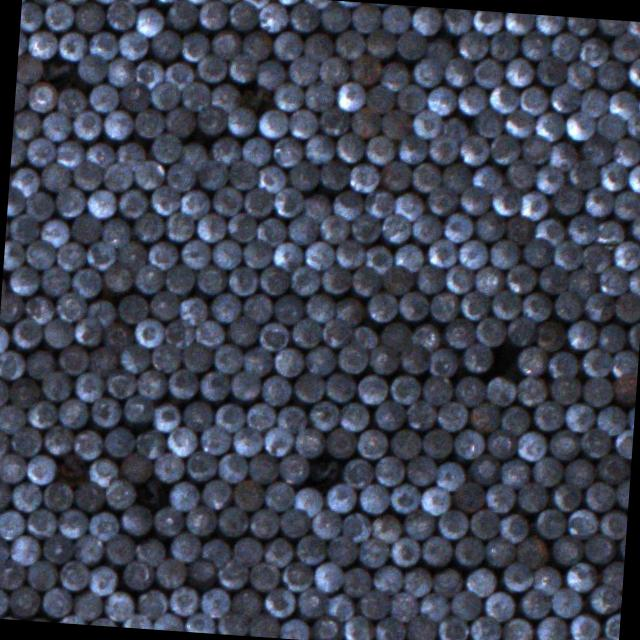tool: (514, 532, 552, 570), (183, 502, 218, 537), (347, 104, 383, 138), (467, 398, 502, 432), (258, 372, 292, 407), (134, 426, 168, 461), (451, 586, 484, 622), (302, 343, 338, 376), (68, 587, 104, 620), (594, 451, 628, 485), (168, 528, 202, 562), (550, 532, 584, 566), (404, 453, 438, 487), (548, 372, 582, 406), (288, 316, 322, 350), (208, 290, 242, 324), (256, 262, 290, 296), (566, 264, 600, 298), (302, 238, 336, 272), (473, 208, 507, 242), (566, 210, 600, 244), (270, 184, 304, 218), (502, 106, 536, 140), (8, 583, 42, 617), (101, 588, 135, 622), (25, 557, 59, 591), (121, 557, 155, 591), (133, 533, 167, 567), (119, 502, 153, 536), (102, 424, 136, 458), (57, 395, 91, 429), (73, 369, 107, 403), (102, 106, 136, 140), (309, 507, 344, 540), (497, 510, 532, 543), (151, 451, 186, 484), (562, 401, 597, 434), (470, 160, 505, 193), (105, 476, 138, 511), (39, 369, 74, 402), (136, 366, 169, 401), (230, 478, 266, 510), (372, 398, 408, 430), (270, 136, 306, 168), (578, 132, 611, 166), (577, 34, 610, 68), (230, 585, 264, 618), (483, 588, 516, 622), (154, 554, 187, 588), (294, 532, 327, 566), (484, 534, 517, 568), (216, 504, 250, 537), (468, 506, 501, 540), (566, 507, 600, 540), (167, 478, 200, 512), (292, 484, 326, 517), (452, 480, 486, 513), (185, 448, 218, 482), (498, 456, 532, 489), (165, 424, 199, 457), (230, 424, 264, 457), (292, 426, 326, 459), (389, 427, 423, 460), (515, 428, 549, 461), (531, 398, 565, 431), (292, 370, 326, 403), (240, 343, 274, 376), (367, 342, 400, 376), (272, 291, 306, 324), (488, 287, 522, 320), (550, 182, 584, 215), (286, 159, 320, 192), (238, 133, 272, 166), (488, 130, 522, 163), (548, 138, 582, 171), (225, 48, 258, 82), (286, 54, 320, 87), (270, 27, 303, 61), (255, 0, 289, 33), (135, 586, 169, 619), (120, 392, 154, 425), (105, 365, 138, 399), (56, 342, 90, 375), (38, 264, 72, 297), (100, 214, 134, 247), (133, 156, 166, 190), (132, 4, 166, 37), (500, 560, 535, 592), (402, 508, 437, 540), (433, 458, 468, 490), (422, 424, 454, 459), (323, 370, 358, 402), (533, 318, 568, 350), (362, 132, 397, 164), (389, 534, 422, 567), (484, 481, 517, 514), (356, 426, 389, 459), (515, 344, 548, 377), (225, 315, 258, 348), (398, 289, 431, 322), (287, 264, 320, 297), (474, 263, 507, 296), (536, 262, 569, 295), (334, 237, 367, 270), (521, 235, 554, 268), (255, 215, 288, 248), (533, 214, 566, 247), (363, 82, 396, 115), (349, 1, 382, 34), (72, 481, 105, 514), (42, 423, 75, 456), (38, 215, 71, 248), (72, 157, 105, 190), (119, 79, 152, 112), (580, 374, 614, 406), (248, 560, 282, 592), (312, 558, 344, 592), (372, 560, 404, 594), (464, 564, 496, 598), (454, 533, 486, 567), (152, 502, 184, 536), (418, 484, 452, 516), (550, 480, 584, 512), (246, 451, 280, 483), (468, 452, 502, 484), (324, 426, 358, 458), (484, 427, 518, 459), (212, 402, 246, 434), (435, 400, 469, 432), (354, 372, 388, 404), (516, 374, 550, 406), (442, 316, 476, 348), (164, 260, 196, 294), (225, 264, 259, 296), (318, 262, 352, 294), (382, 262, 414, 296), (487, 236, 521, 268), (224, 210, 258, 242), (392, 190, 426, 222), (226, 158, 258, 192), (348, 160, 382, 192), (566, 158, 600, 190), (209, 132, 241, 166), (458, 132, 490, 166), (272, 80, 306, 112), (518, 82, 552, 114), (550, 80, 582, 114), (502, 56, 536, 88), (564, 56, 596, 90), (148, 27, 180, 61), (454, 29, 488, 61), (58, 558, 90, 592), (8, 534, 42, 566), (72, 532, 104, 566), (103, 532, 137, 564), (120, 450, 154, 482), (90, 394, 122, 428), (118, 341, 152, 373), (42, 316, 76, 348), (100, 318, 134, 350), (54, 290, 88, 322), (116, 292, 150, 324), (134, 54, 166, 88), (562, 455, 597, 486), (227, 369, 262, 400), (386, 373, 421, 404), (549, 586, 585, 616), (583, 532, 616, 564), (264, 585, 296, 618), (296, 585, 328, 618), (519, 586, 552, 618), (216, 556, 249, 588), (566, 559, 598, 592), (421, 534, 454, 566), (199, 478, 232, 510), (373, 454, 406, 486), (550, 427, 582, 460), (307, 398, 339, 431), (405, 399, 437, 432), (500, 401, 532, 434), (166, 366, 198, 399), (198, 368, 230, 401), (420, 374, 453, 406), (180, 340, 213, 372), (378, 320, 411, 352), (565, 318, 598, 350), (520, 289, 552, 322), (552, 290, 585, 322), (350, 264, 383, 296), (505, 261, 538, 293), (147, 238, 180, 270), (178, 237, 211, 269), (348, 212, 381, 244), (442, 210, 474, 243), (504, 212, 536, 245), (194, 158, 227, 190), (255, 162, 288, 194), (382, 107, 414, 140), (534, 109, 566, 142), (148, 79, 180, 112), (333, 78, 366, 110), (396, 82, 428, 115), (456, 83, 489, 115), (196, 51, 228, 84), (380, 58, 413, 90), (473, 55, 505, 88), (178, 29, 210, 62), (302, 28, 334, 61), (424, 32, 456, 65), (87, 508, 120, 540), (10, 480, 43, 512), (85, 344, 118, 376), (10, 316, 42, 349), (115, 238, 148, 270), (114, 138, 147, 170), (134, 105, 166, 138), (26, 28, 58, 61), (118, 28, 151, 60), (359, 586, 390, 620), (342, 563, 373, 597), (259, 535, 293, 566), (200, 422, 231, 456), (274, 402, 308, 433), (302, 133, 336, 164), (162, 105, 196, 136), (518, 29, 552, 60), (7, 212, 41, 243), (54, 184, 85, 218), (84, 188, 118, 219), (588, 582, 620, 614), (580, 426, 612, 458), (582, 290, 614, 322), (592, 110, 624, 142), (198, 586, 230, 618), (282, 559, 314, 591), (402, 564, 434, 596), (199, 534, 231, 566), (436, 507, 468, 539), (534, 506, 566, 538), (324, 482, 356, 514), (216, 452, 248, 484), (531, 454, 563, 486), (453, 427, 485, 459), (180, 398, 212, 430), (452, 374, 484, 406), (211, 342, 243, 374), (399, 342, 431, 374), (410, 320, 442, 352), (148, 288, 180, 320), (444, 262, 476, 294), (210, 238, 242, 270), (240, 238, 272, 270), (272, 240, 304, 272), (426, 236, 458, 268), (456, 238, 488, 270), (194, 210, 226, 242), (210, 184, 242, 216), (458, 184, 490, 216), (489, 183, 521, 215), (410, 160, 442, 192), (504, 156, 536, 188), (398, 132, 430, 164), (518, 132, 550, 164), (196, 103, 228, 135), (564, 108, 596, 140), (178, 80, 210, 112), (208, 80, 240, 112), (443, 54, 475, 86), (241, 27, 273, 59), (487, 28, 519, 60), (288, 0, 320, 32), (87, 563, 119, 595), (10, 424, 42, 456), (26, 397, 58, 429), (8, 376, 40, 408), (24, 347, 56, 379), (24, 292, 56, 324), (8, 264, 40, 296), (70, 266, 102, 298), (101, 262, 133, 294), (132, 262, 164, 294), (133, 210, 165, 242), (54, 136, 86, 168), (56, 84, 88, 116), (185, 557, 218, 588), (336, 342, 369, 373), (364, 26, 397, 57), (88, 454, 119, 487), (598, 506, 628, 540), (596, 56, 626, 90), (304, 292, 338, 322), (430, 288, 460, 322), (116, 187, 150, 217), (596, 264, 628, 295), (431, 564, 462, 596), (231, 534, 262, 566), (359, 536, 390, 568), (278, 507, 310, 538), (371, 510, 402, 542), (389, 482, 420, 514), (279, 452, 310, 484), (262, 426, 293, 458), (244, 401, 276, 432), (484, 374, 516, 405), (462, 341, 494, 372), (162, 317, 194, 348), (241, 292, 273, 323), (366, 290, 398, 321), (460, 288, 491, 320), (414, 262, 445, 294), (551, 238, 582, 270), (286, 214, 318, 245), (318, 213, 350, 244), (148, 184, 180, 215), (240, 186, 272, 217), (332, 188, 363, 220), (426, 184, 458, 215), (318, 158, 349, 190), (178, 137, 210, 168), (428, 132, 459, 164), (288, 107, 319, 139), (472, 106, 504, 137), (426, 84, 458, 115), (488, 83, 520, 114), (163, 58, 194, 90), (334, 29, 365, 61), (549, 30, 580, 62), (40, 586, 72, 617), (26, 507, 58, 538), (86, 295, 118, 326), (24, 238, 55, 270), (71, 211, 102, 243), (23, 188, 54, 220), (9, 164, 41, 195), (41, 161, 73, 192), (102, 160, 134, 191), (41, 109, 72, 141), (70, 108, 102, 139), (88, 80, 120, 111), (56, 29, 88, 60), (42, 0, 74, 31), (73, 0, 105, 31), (609, 346, 639, 379), (326, 534, 359, 564), (336, 401, 369, 431), (580, 346, 613, 376), (392, 242, 425, 272), (520, 186, 550, 219), (163, 161, 196, 191), (534, 161, 564, 194), (438, 111, 471, 141), (165, 0, 198, 30), (41, 532, 74, 562), (568, 611, 602, 640), (249, 507, 280, 538), (358, 482, 389, 513), (150, 400, 181, 431), (335, 294, 366, 325), (196, 264, 227, 295), (381, 212, 412, 243), (381, 159, 412, 190), (441, 161, 472, 192), (318, 56, 349, 87), (349, 53, 380, 84), (319, 1, 350, 32), (42, 481, 73, 512), (85, 239, 116, 270), (88, 29, 119, 60), (594, 404, 626, 434), (610, 29, 640, 61), (168, 582, 198, 614), (388, 590, 418, 622), (419, 590, 451, 620), (342, 458, 374, 488), (192, 318, 224, 348), (321, 316, 351, 348), (164, 210, 194, 242), (410, 212, 442, 242), (150, 132, 180, 164), (334, 130, 364, 162), (257, 108, 289, 138), (256, 57, 286, 89), (412, 56, 444, 86), (396, 29, 426, 61), (26, 452, 56, 484), (12, 108, 42, 140), (77, 52, 107, 84), (104, 0, 136, 30), (310, 612, 344, 640), (409, 6, 443, 34), (403, 613, 438, 640), (584, 479, 614, 510), (596, 322, 627, 352), (580, 242, 611, 272), (610, 135, 640, 166), (578, 85, 608, 116), (342, 511, 372, 542), (264, 480, 294, 511), (518, 481, 548, 512), (150, 342, 181, 372), (428, 345, 458, 376), (548, 348, 578, 379), (475, 316, 506, 346), (505, 316, 536, 346), (178, 294, 208, 325), (178, 188, 209, 218), (304, 79, 334, 110), (210, 28, 241, 58), (226, 0, 257, 30), (381, 4, 412, 34), (58, 507, 88, 538), (74, 428, 105, 458), (73, 316, 103, 347), (134, 316, 165, 346), (55, 240, 86, 270), (105, 56, 136, 86), (196, 0, 228, 29), (84, 140, 116, 169), (435, 613, 469, 640), (0, 399, 26, 434), (598, 160, 628, 190), (608, 89, 638, 119), (272, 346, 302, 376), (258, 320, 288, 350), (364, 242, 394, 272), (302, 190, 332, 220), (412, 108, 442, 138), (611, 238, 640, 269), (597, 216, 626, 247), (583, 186, 612, 217), (227, 104, 256, 135), (27, 80, 56, 111), (373, 612, 405, 640), (16, 52, 44, 84), (0, 451, 27, 484), (535, 614, 569, 640), (0, 507, 26, 541), (468, 615, 503, 640), (326, 590, 355, 620), (26, 136, 56, 165), (364, 188, 395, 216), (318, 106, 349, 134), (536, 54, 564, 85), (611, 371, 637, 404), (216, 610, 249, 636), (248, 612, 281, 638), (0, 347, 26, 380), (611, 188, 640, 217), (532, 564, 561, 593), (613, 289, 640, 320), (343, 613, 374, 640), (471, 10, 504, 35), (0, 290, 25, 323), (183, 610, 217, 634), (441, 8, 472, 34), (0, 558, 25, 590), (351, 322, 378, 351), (501, 616, 533, 640), (280, 616, 310, 640), (564, 16, 600, 36), (20, 1, 44, 30), (601, 558, 624, 588), (3, 240, 26, 270), (502, 12, 534, 33), (152, 611, 184, 631), (6, 184, 26, 216), (613, 427, 633, 457), (535, 15, 565, 34), (122, 612, 153, 629), (10, 135, 27, 165), (603, 611, 620, 640), (623, 110, 640, 139), (614, 478, 630, 508), (625, 319, 640, 351), (625, 161, 640, 193), (625, 266, 640, 296), (598, 18, 626, 34), (14, 78, 28, 110), (626, 56, 640, 87), (0, 478, 11, 511), (628, 210, 640, 240), (0, 533, 10, 565), (0, 376, 10, 408), (0, 586, 9, 619), (0, 428, 10, 457), (624, 20, 640, 38), (241, 0, 271, 8), (121, 0, 153, 4), (182, 0, 213, 3)
tool_b: (31, 46, 88, 95), (231, 72, 284, 120), (306, 453, 344, 488), (52, 453, 88, 488), (132, 475, 166, 512)
void: (488, 341, 523, 378)
